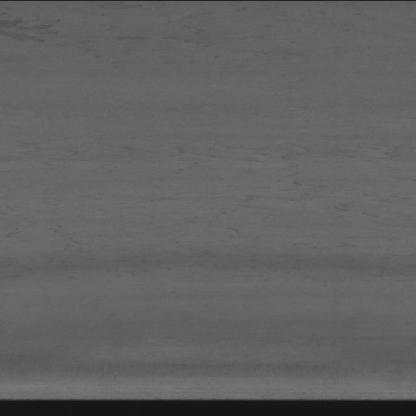silk_spot: (8, 140, 378, 275)
water_spot: (0, 13, 74, 52)
